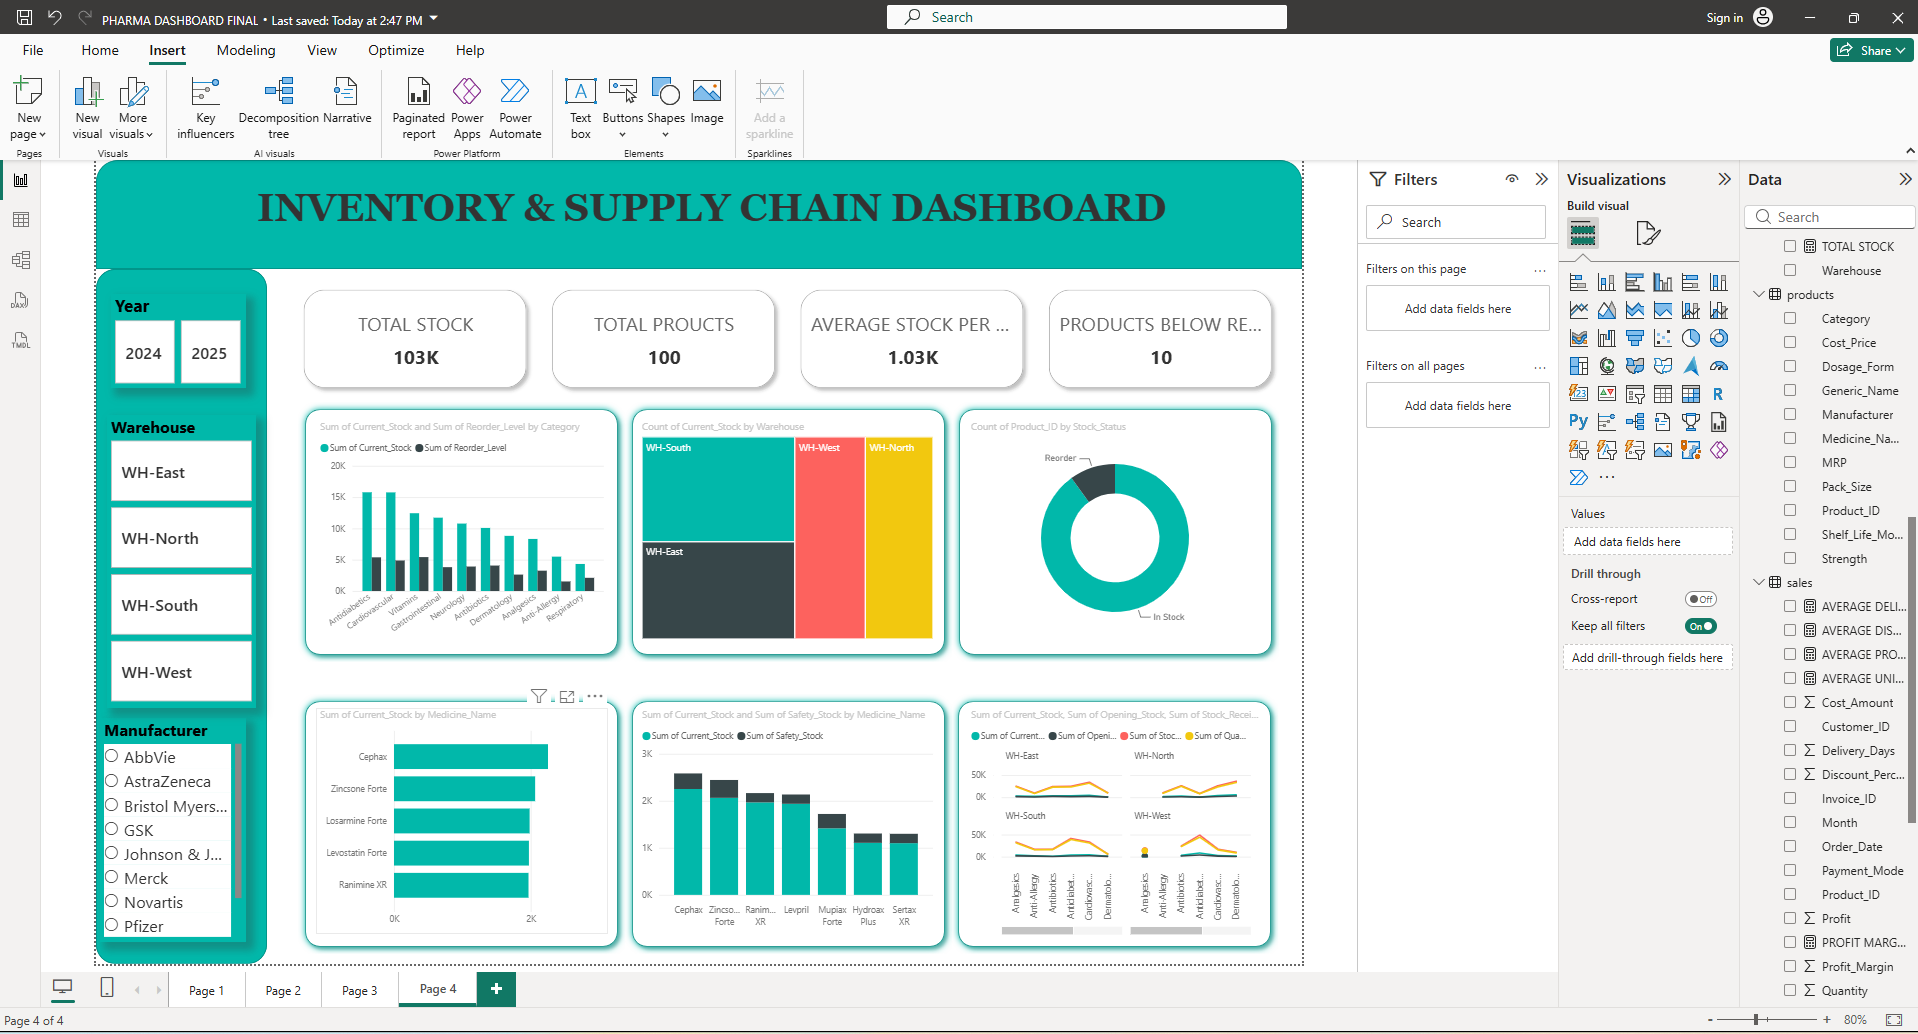

Layout of this report page (visuals, bound fields, positions):
{"tool":"powerbi","page":{"name":"Page 4","canvas":[1500,1000],"ordinal":3},"visuals":[{"type":"shape","box":[0,0,1500,135.6],"z":0},{"type":"shape","box":[0,135.6,212.7,864.4],"z":1000},{"type":"cardVisual","fields":{"Data":["inventory.TOTAL STOCK","inventory.TOTAL PROUCTS","inventory.AVERAGE STOCK PER PRODUCT","inventory.products below recorder"]},"box":[241.3,144.3,1241.3,156.7],"z":2000},{"type":"textbox","box":[125.6,27.4,1279.9,90.8],"z":3000},{"type":"advancedSlicerVisual","fields":{"Values":["inventory.Warehouse"]},"box":[13.7,317.2,185.3,364.4],"z":3001},{"type":"listSlicer","fields":{"Values":["products.Manufacturer"]},"box":[5,694,181.6,278.6],"z":3002},{"type":"advancedSlicerVisual","fields":{"Values":["dates.Year"]},"box":[18.7,166.7,167.9,116.9],"z":3003},{"type":"shape","box":[1064.7,301,406.7,323.4],"z":3004},{"type":"shape","box":[658,301,406.7,323.4],"z":3005},{"type":"shape","box":[251.2,301,406.7,323.4],"z":3006},{"type":"treemap","fields":{"Values":["Count(inventory.Current_Stock)"],"Group":["inventory.Warehouse"]},"box":[674.1,323.4,371.9,277.4],"z":3007},{"type":"clusteredColumnChart","fields":{"Y":["Sum(inventory.Current_Stock)","Sum(inventory.Reorder_Level)"],"Category":["products.Category"]},"box":[273.6,323.4,363.2,277.4],"z":3008},{"type":"donutChart","fields":{"Category":["inventory.Stock_Status"],"Y":["CountNonNull(products.Product_ID)"]},"box":[1083.3,323.4,368.2,277.4],"z":3009},{"type":"shape","box":[658,664.2,406.7,323.4],"z":3010},{"type":"shape","box":[1063.4,664.2,406.7,323.4],"z":3011},{"type":"shape","box":[251.2,664.2,406.7,323.4],"z":3012},{"type":"clusteredBarChart","fields":{"Category":["products.Medicine_Name"],"Y":["Sum(inventory.Current_Stock)"]},"box":[273.6,681.6,363.2,281.1],"z":3013},{"type":"lineStackedColumnComboChart","fields":{"Category":["products.Medicine_Name"],"Y":["Sum(inventory.Current_Stock)","Sum(inventory.Safety_Stock)"]},"box":[674.1,681.6,371.9,281.1],"z":3014},{"type":"lineChart","fields":{"Rows":["inventory.Warehouse"],"Category":["products.Category"],"Y":["Sum(inventory.Current_Stock)","Sum(inventory.Opening_Stock)","Sum(inventory.Stock_Received)","Sum(inventory.Quantity_Sold)"]},"box":[1083.3,681.6,368.2,288.6],"z":3015}]}

Visuals, with their boxes on the page's 1500x1000 design canvas (x1, y1, x2, y2). These are canvas units, not pixel positions in the 1918x1034 screenshot, which may show the page scaled, cropped or inside an application window:
shape: x1=0 y1=0 x2=1500 y2=136
shape: x1=0 y1=136 x2=213 y2=1000
cardVisual - inventory.TOTAL STOCK x inventory.TOTAL PROUCTS: x1=241 y1=144 x2=1483 y2=301
textbox: x1=126 y1=27 x2=1406 y2=118
advancedSlicerVisual - inventory.Warehouse: x1=14 y1=317 x2=199 y2=682
listSlicer - products.Manufacturer: x1=5 y1=694 x2=187 y2=973
advancedSlicerVisual - dates.Year: x1=19 y1=167 x2=187 y2=284
shape: x1=1065 y1=301 x2=1471 y2=624
shape: x1=658 y1=301 x2=1065 y2=624
shape: x1=251 y1=301 x2=658 y2=624
treemap - Count(inventory.Current_Stock) x inventory.Warehouse: x1=674 y1=323 x2=1046 y2=601
clusteredColumnChart - Sum(inventory.Current_Stock) x Sum(inventory.Reorder_Level): x1=274 y1=323 x2=637 y2=601
donutChart - inventory.Stock_Status x CountNonNull(products.Product_ID): x1=1083 y1=323 x2=1452 y2=601
shape: x1=658 y1=664 x2=1065 y2=988
shape: x1=1063 y1=664 x2=1470 y2=988
shape: x1=251 y1=664 x2=658 y2=988
clusteredBarChart - products.Medicine_Name x Sum(inventory.Current_Stock): x1=274 y1=682 x2=637 y2=963
lineStackedColumnComboChart - products.Medicine_Name x Sum(inventory.Current_Stock): x1=674 y1=682 x2=1046 y2=963
lineChart - inventory.Warehouse x products.Category: x1=1083 y1=682 x2=1452 y2=970
